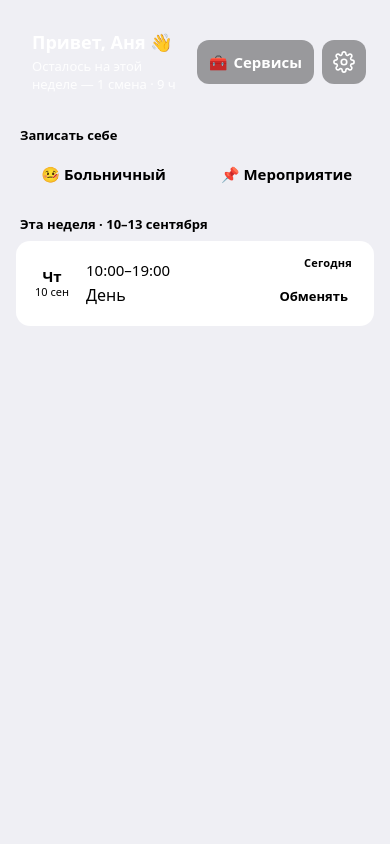
Test case: «Кто ещё работает» под своей сменой › раскрытая строка показывает список коллег дня
The image size is (390, 844).
Click the element with test id "shift-row" at [195, 283], box [16,241,374,326]
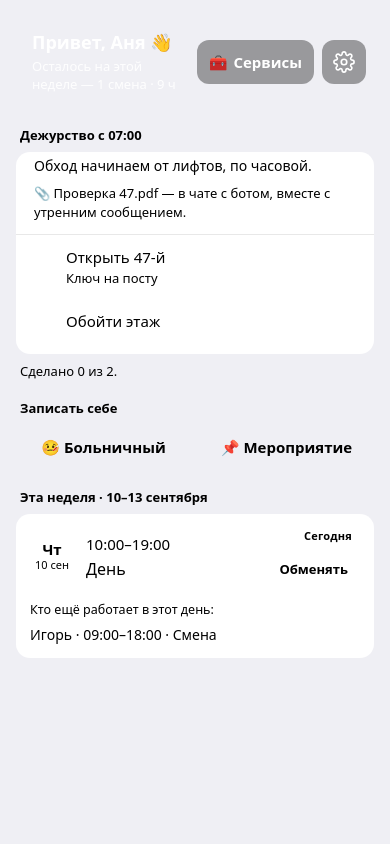
Result: the text "Игорь · 09:00–18:00" is shown at [30,624,217,644]
